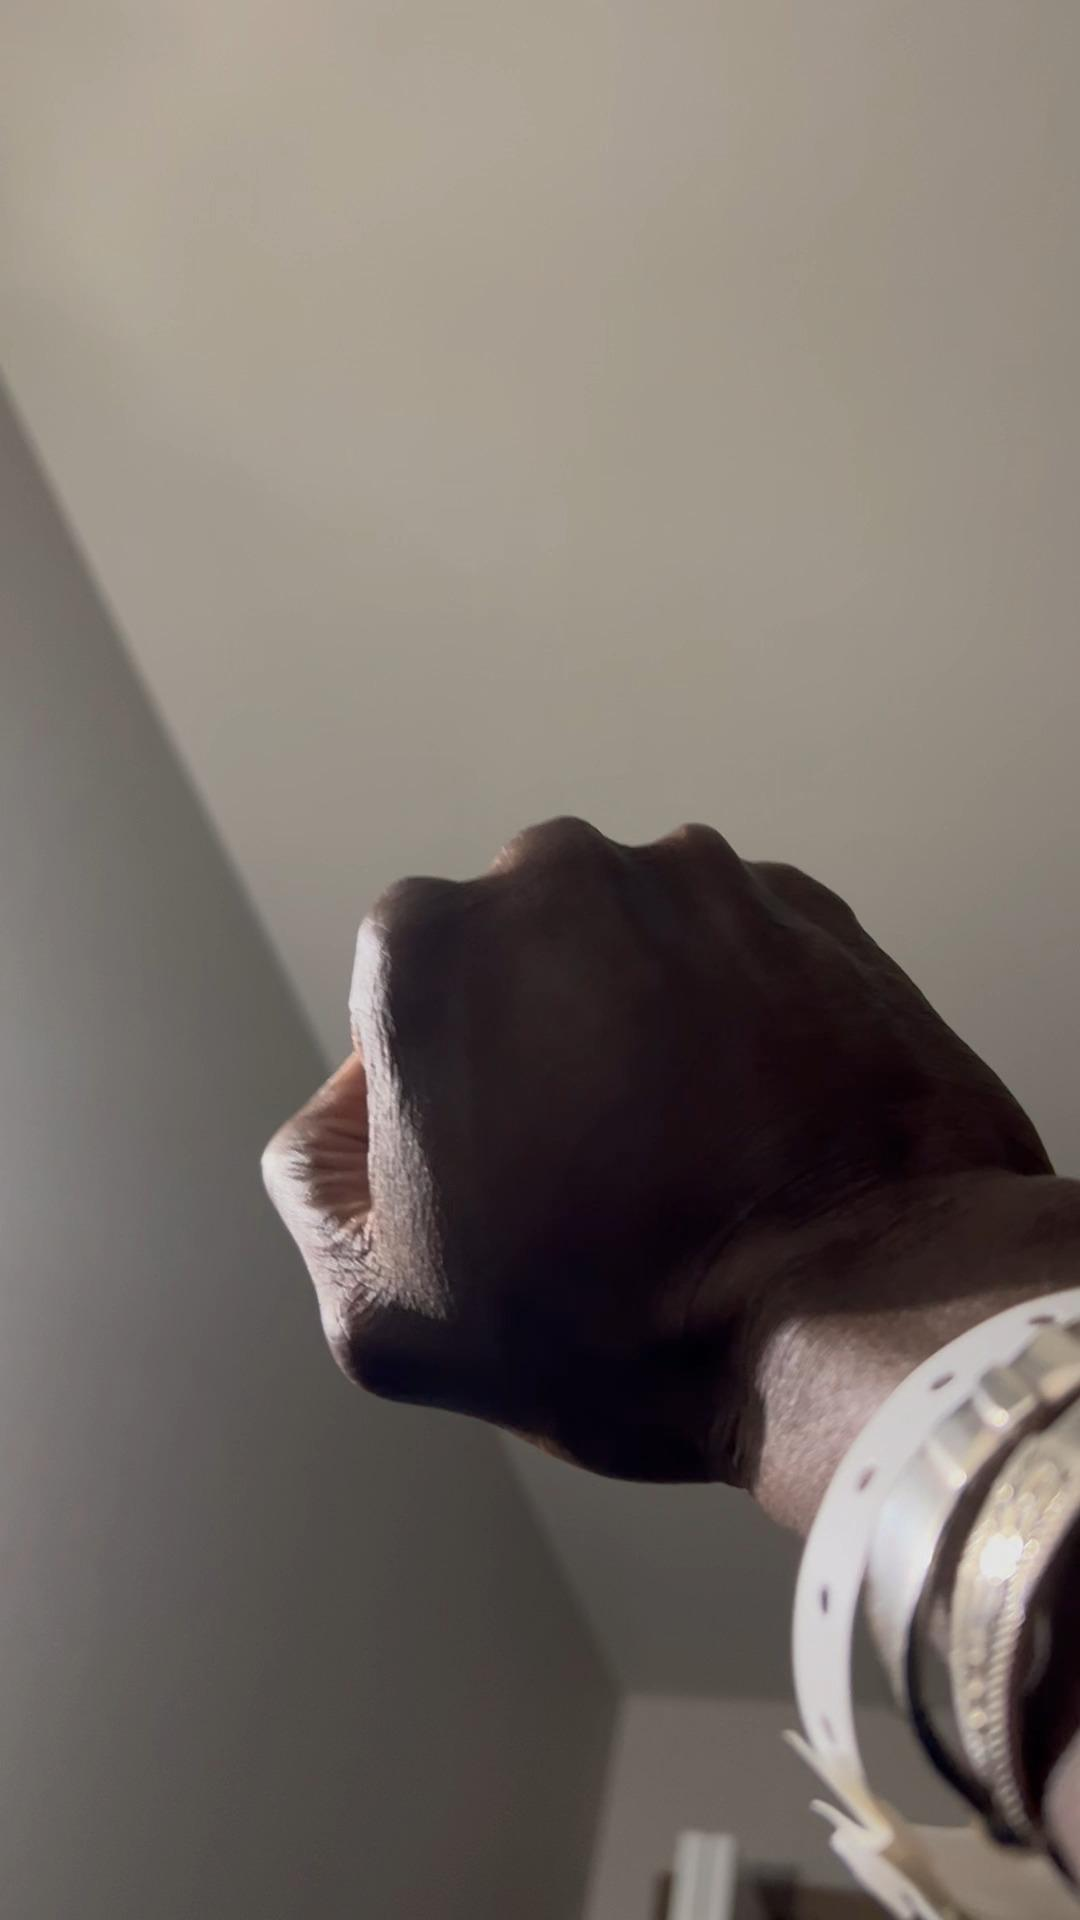Rock: (264, 807, 1063, 1486)
